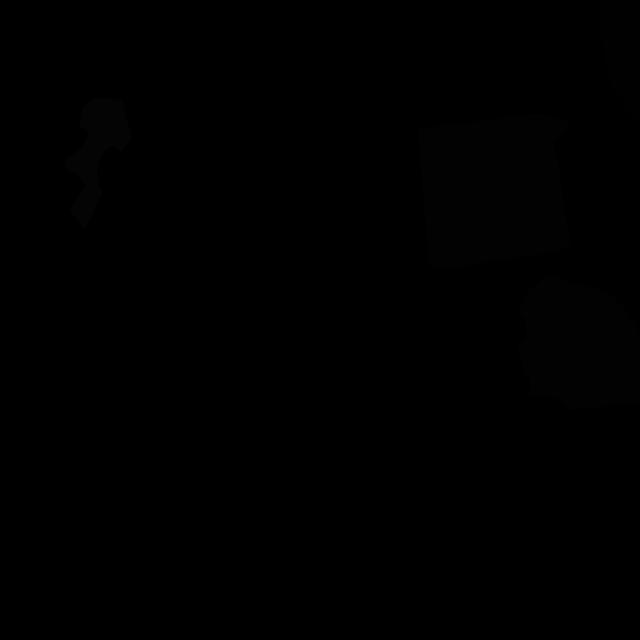cardboard: (418, 113, 572, 269), (518, 274, 640, 410)
rigid_plastic: (599, 0, 640, 121)
soft_plastic: (64, 97, 132, 230)
